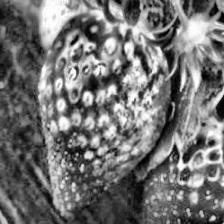Powdery Mildew Fruit: (38, 9, 174, 179)
